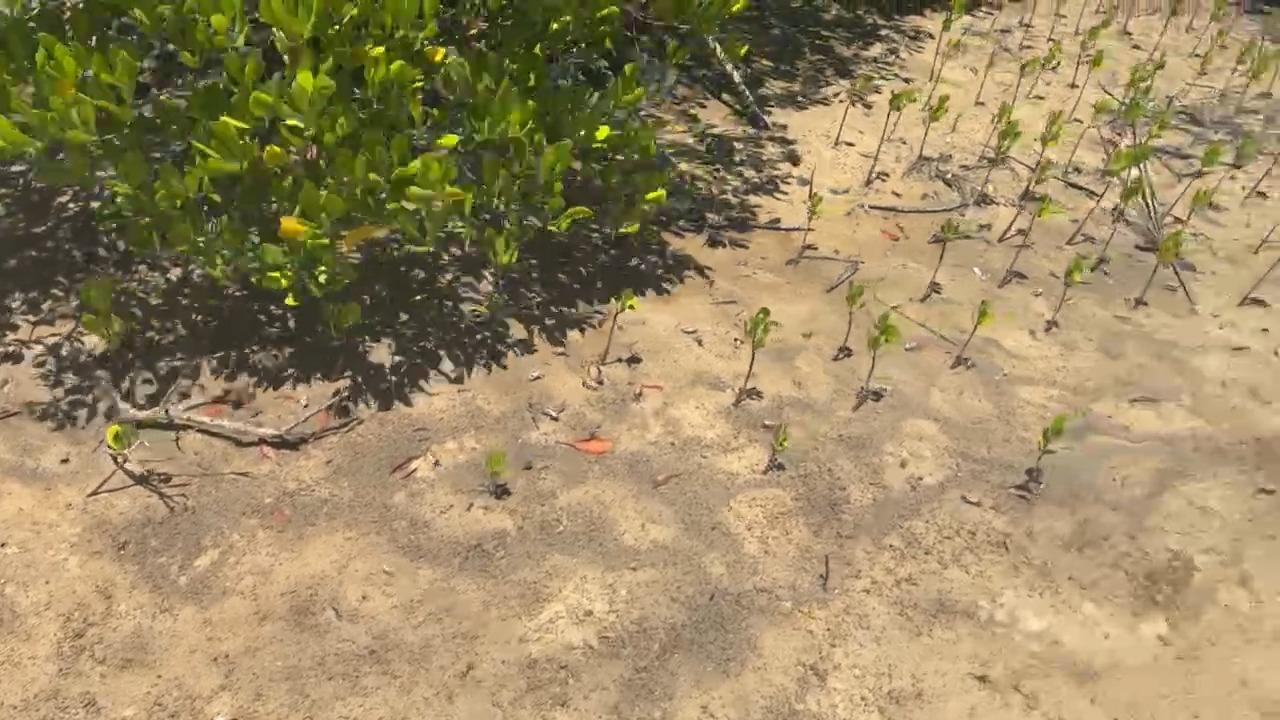Tree: (1067, 143, 1146, 246), (996, 160, 1066, 242), (866, 90, 921, 183), (1007, 197, 1068, 270), (87, 423, 138, 497), (1021, 108, 1064, 192), (1165, 147, 1217, 215), (1102, 179, 1145, 258), (1065, 100, 1116, 164), (1141, 232, 1185, 302), (1067, 50, 1109, 122), (864, 310, 901, 390), (1051, 253, 1091, 323), (922, 40, 963, 108), (1070, 19, 1111, 87), (601, 288, 637, 362), (745, 308, 777, 389), (1232, 52, 1271, 118), (985, 119, 1024, 183), (928, 217, 967, 280), (1189, 0, 1229, 60), (1124, 53, 1166, 105), (1214, 138, 1257, 188), (918, 94, 951, 159), (1005, 55, 1038, 118), (960, 299, 997, 354), (1240, 258, 1280, 307), (1027, 42, 1063, 95), (1220, 36, 1252, 95), (929, 13, 955, 82), (1182, 183, 1219, 229), (834, 100, 871, 146), (1143, 103, 1178, 151), (1150, 0, 1178, 58), (1036, 415, 1065, 470), (1242, 157, 1278, 200), (844, 280, 867, 345), (983, 100, 1014, 148), (764, 423, 790, 474), (974, 50, 997, 106), (1121, 99, 1143, 156), (803, 192, 825, 243), (485, 450, 509, 496), (1253, 225, 1279, 254), (1021, 0, 1037, 45), (1119, 0, 1134, 36), (1048, 0, 1060, 42), (1074, 0, 1088, 36), (1268, 51, 1280, 92)
